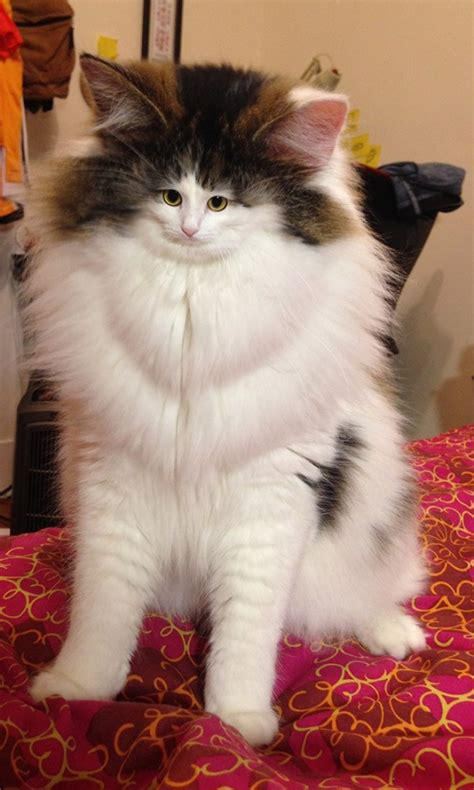cat: (31, 54, 426, 746)
